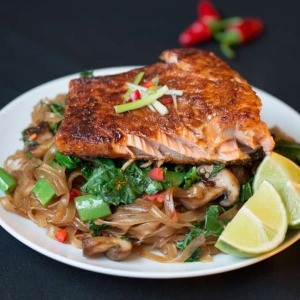salmon_brain food: (49, 48, 261, 163)
